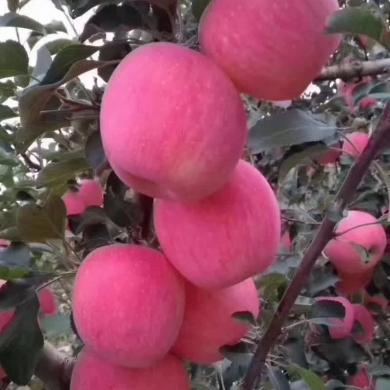apple: (98, 47, 244, 199), (152, 157, 281, 290), (68, 242, 186, 371)
